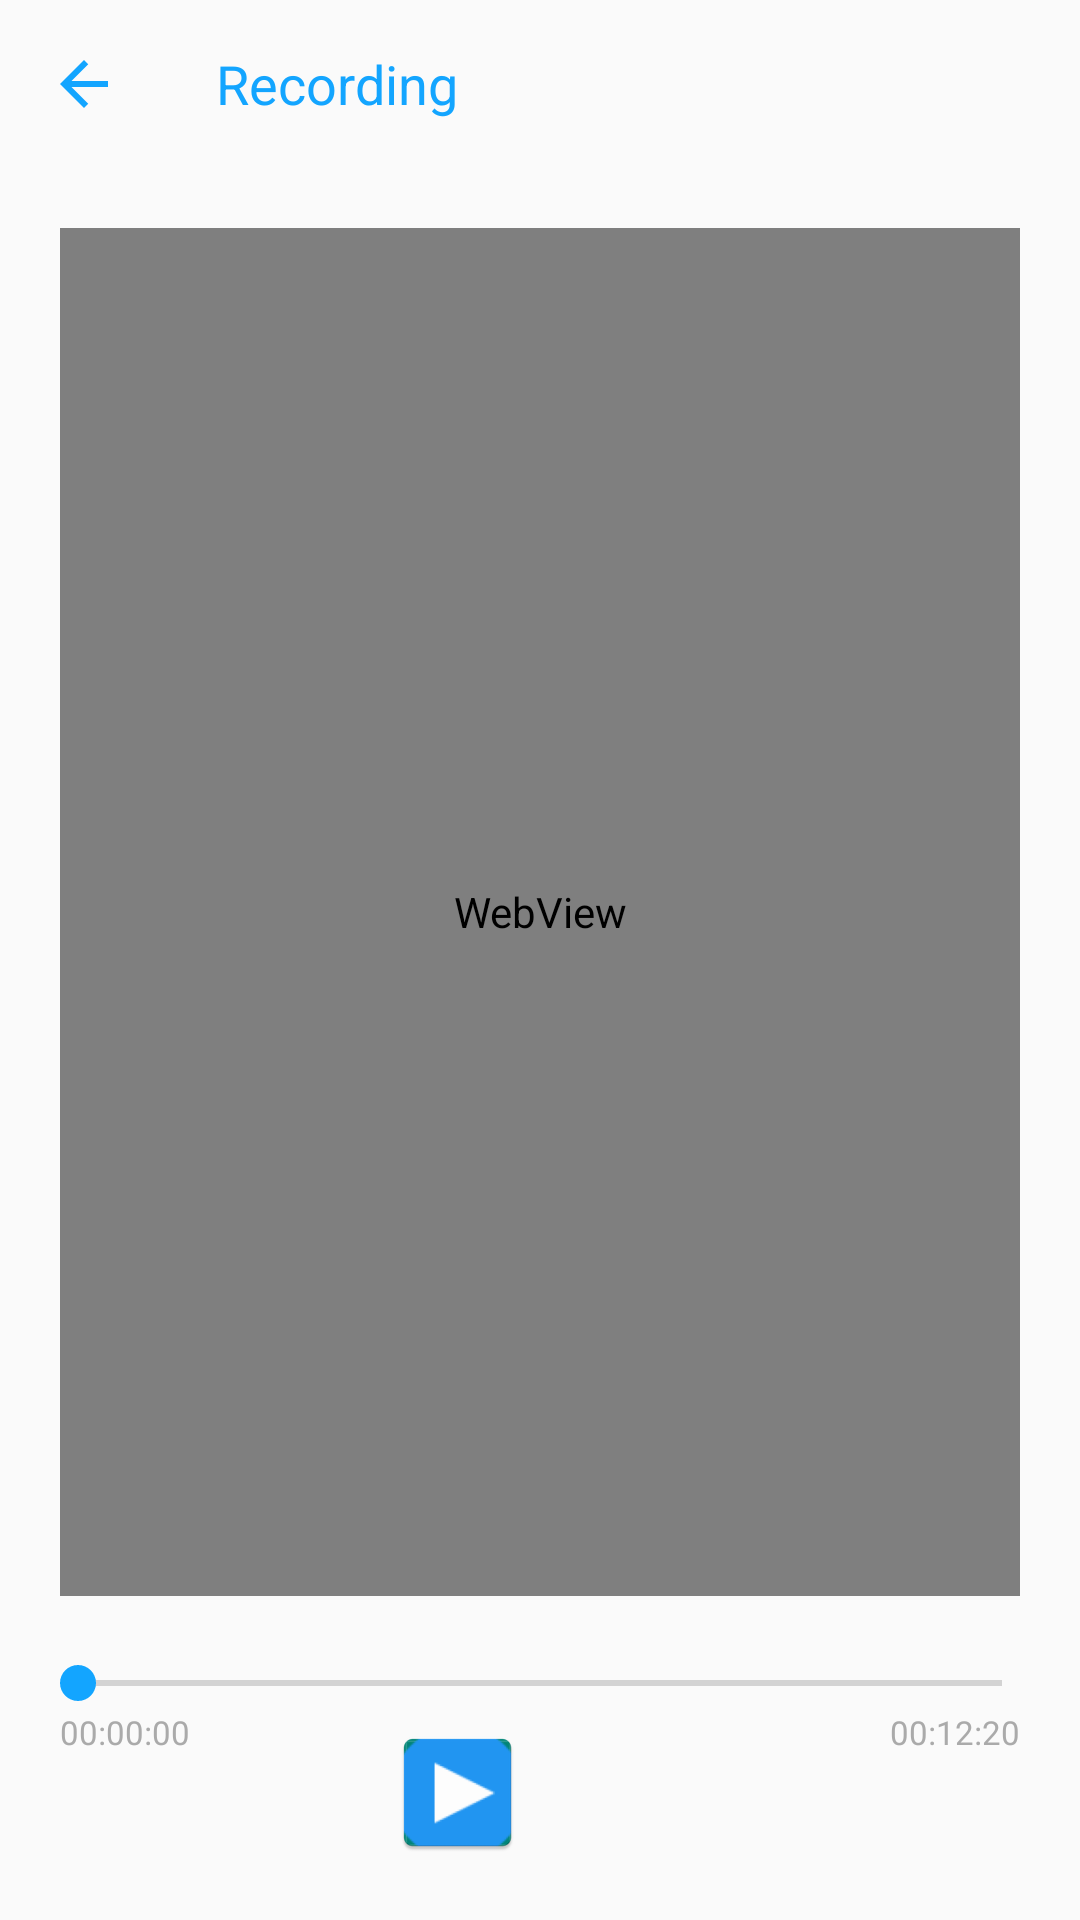

Where to tap for icons on this 1080x1920 app screen, as [x,y]:
play: [457,1793]
